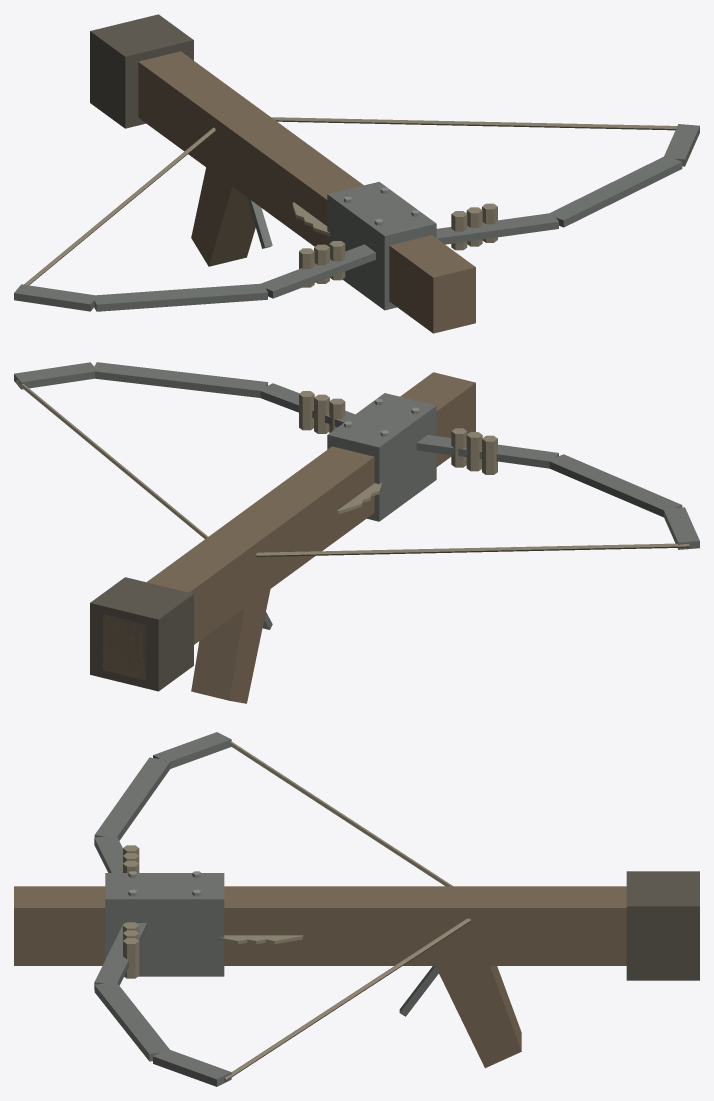
Rendered from crossbow_junk.glb.
The picture shows the model from 3 angles, top to bottom: view 1: azimuth 30°, elevation 25°; view 2: azimuth 150°, elevation 25°; view 3: azimuth 270°, elevation 25°; orthographic projection. The views are drawn at different scales.
Bounding box in the file's own units: 0.899 × 0.213 × 0.75.
